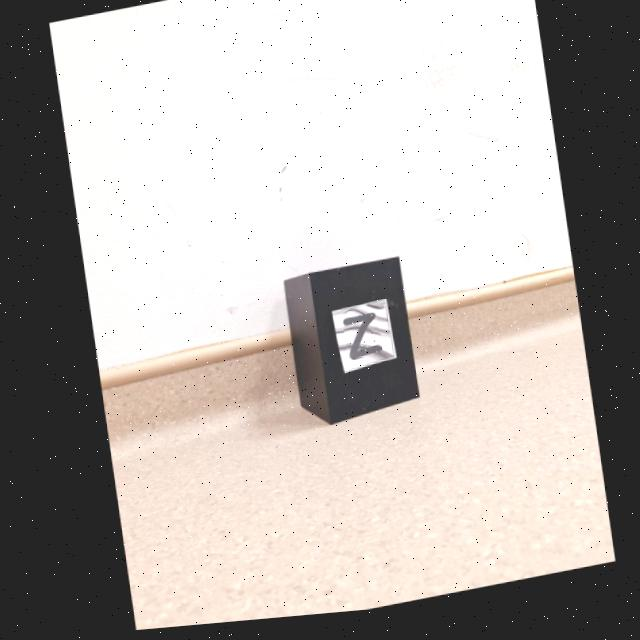Z: (341, 319, 378, 365)
